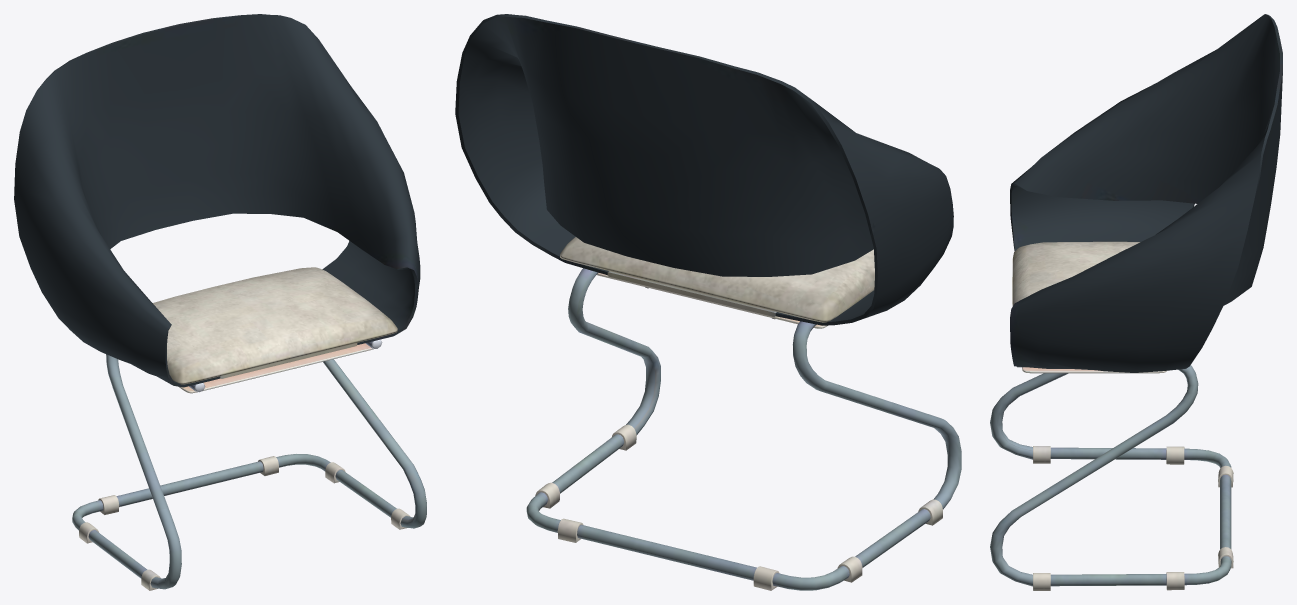
Rendered from chair.glb.
The picture shows the model from 3 angles, left to right: view 1: azimuth 30°, elevation 25°; view 2: azimuth 150°, elevation 25°; view 3: azimuth 270°, elevation 25°; orthographic projection. The views are drawn at different scales.
Bounding box in the file's own units: 6667 × 8201 × 4714.
2 materials, 2 textured.
